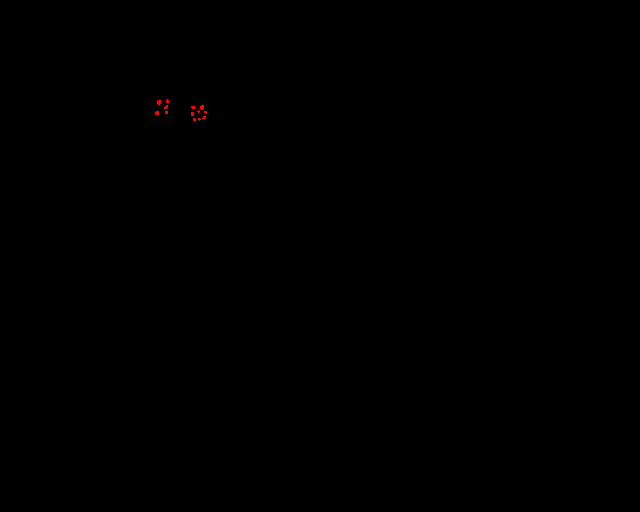Target: (157, 100, 161, 105), (200, 105, 204, 110), (164, 105, 168, 109), (155, 111, 159, 115), (166, 99, 169, 103), (191, 106, 195, 109), (191, 112, 194, 116), (202, 116, 206, 119), (197, 110, 200, 113), (165, 111, 168, 114), (204, 111, 207, 114), (193, 118, 196, 121), (198, 118, 201, 121)
